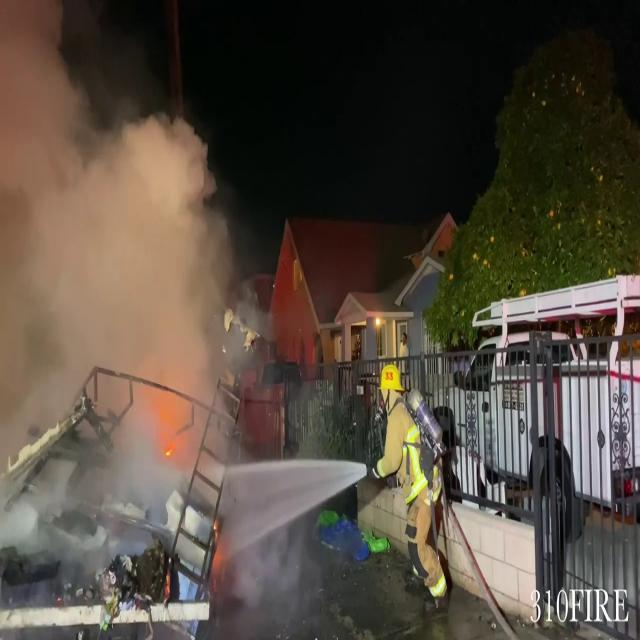Smoke: (0, 0, 260, 554)
